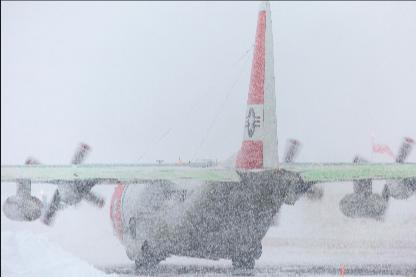Be200: (1, 1, 415, 271)
